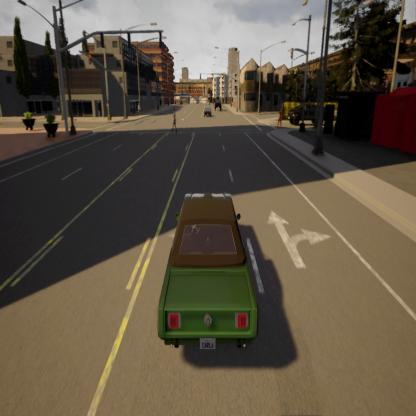Cars: (151, 184, 263, 365), (289, 101, 325, 126), (214, 95, 223, 111), (203, 106, 216, 117)
Pedestrian: (274, 102, 288, 128), (170, 106, 181, 139)
